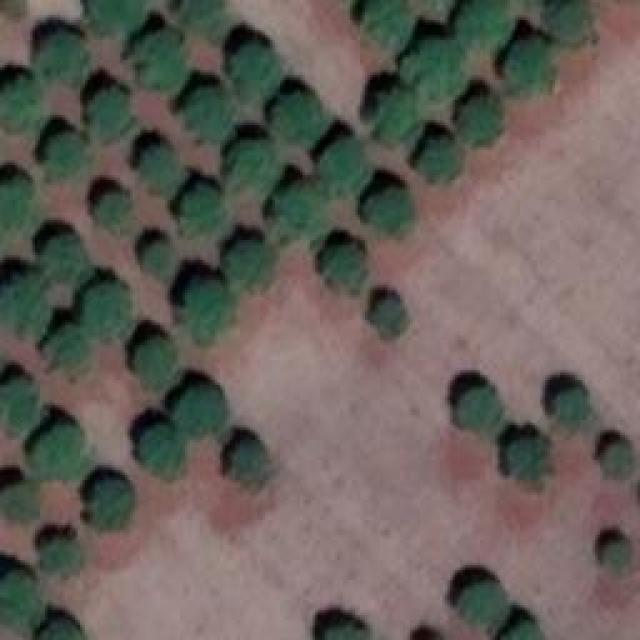Tree: (403, 42, 466, 100), (130, 35, 188, 90), (322, 135, 370, 195), (455, 0, 513, 48), (83, 285, 133, 340), (0, 278, 50, 333), (230, 143, 280, 196), (273, 188, 326, 238), (185, 88, 233, 141), (273, 93, 323, 143), (185, 283, 230, 338), (0, 573, 40, 633), (35, 428, 83, 478), (180, 185, 228, 235), (40, 30, 85, 83), (233, 45, 278, 98), (378, 90, 421, 145), (45, 235, 93, 283), (365, 0, 413, 48), (177, 387, 225, 435), (0, 80, 45, 128), (88, 478, 131, 528), (455, 583, 505, 626), (45, 325, 88, 373), (510, 42, 553, 90), (87, 0, 145, 35), (0, 380, 40, 430), (88, 88, 128, 138), (143, 428, 183, 478), (230, 240, 273, 285), (0, 182, 40, 230), (135, 340, 175, 385), (508, 435, 548, 480), (455, 390, 500, 430), (365, 187, 410, 225), (462, 98, 500, 141), (545, 0, 588, 38), (553, 388, 593, 428), (183, 0, 228, 35), (47, 133, 85, 173), (142, 148, 180, 188), (420, 140, 460, 178), (0, 482, 38, 520), (328, 243, 363, 283), (98, 193, 131, 233), (233, 440, 266, 480), (42, 540, 80, 573), (603, 445, 636, 478), (375, 298, 405, 333), (38, 622, 88, 640), (140, 240, 170, 270), (500, 622, 548, 640), (605, 543, 633, 573), (325, 623, 368, 640)
